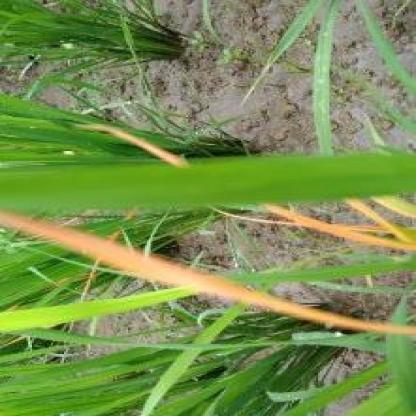Tungro: (3, 213, 416, 334)
